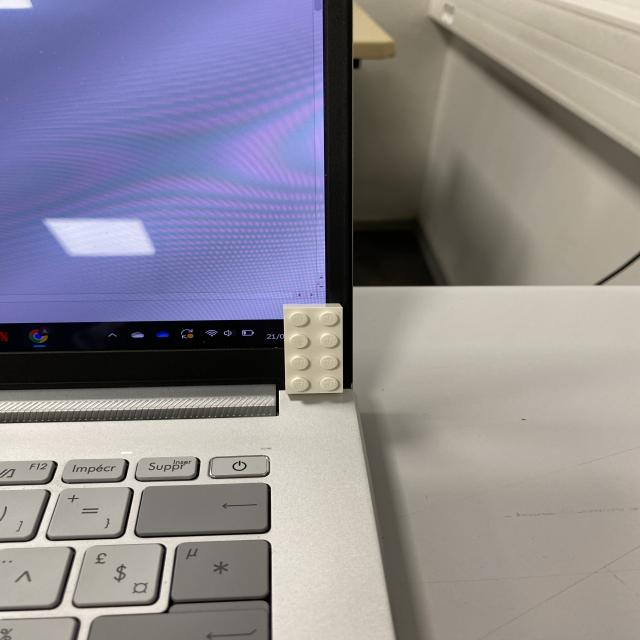C4x2x1: (283, 307, 342, 393)
